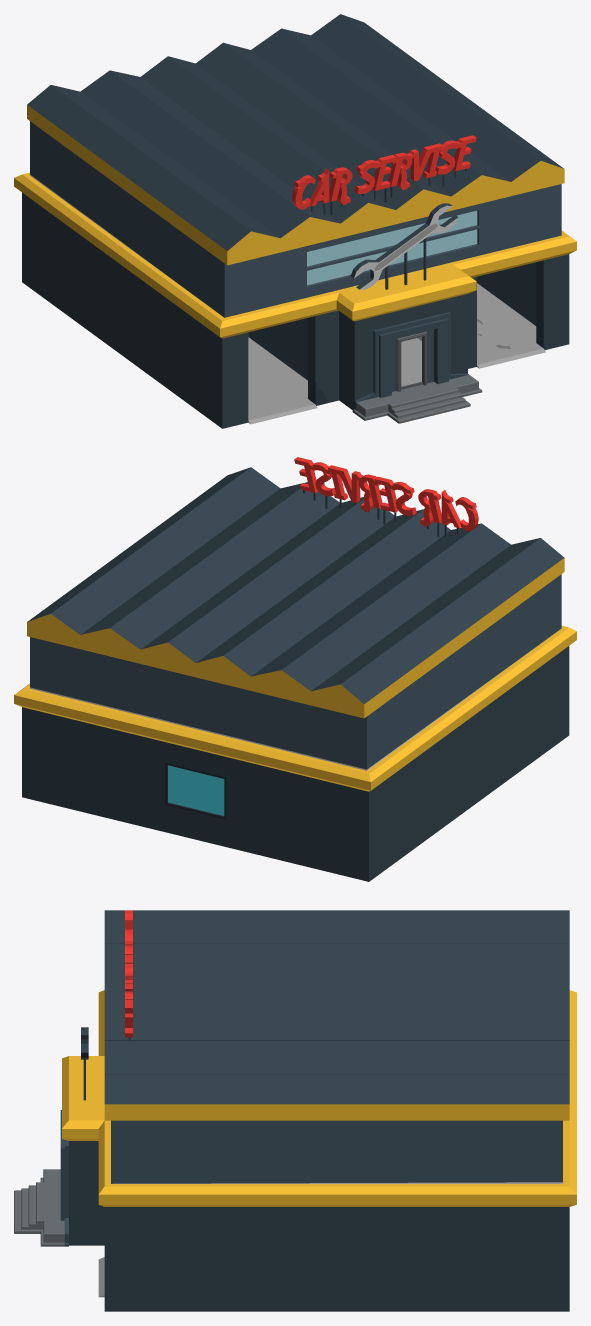
The model's file is SM_Buildings_Car_Service.fbx.
3 views of the same model, one above another, from view 1: azimuth 30°, elevation 25°; view 2: azimuth 150°, elevation 25°; view 3: azimuth 270°, elevation 25° (orthographic). The views are drawn at different scales.
Parts seen in each view (by area): view 1: SM_Buildings_Car_Service; view 2: SM_Buildings_Car_Service; view 3: SM_Buildings_Car_Service.
Part boxes in pixels (<box>): SM_Buildings_Car_Service: <box>14,14,576,428</box>; SM_Buildings_Car_Service: <box>14,457,576,881</box>; SM_Buildings_Car_Service: <box>14,910,576,1311</box>.
Size of the model in its own units: 18.66 by 11.19 by 21.96.
